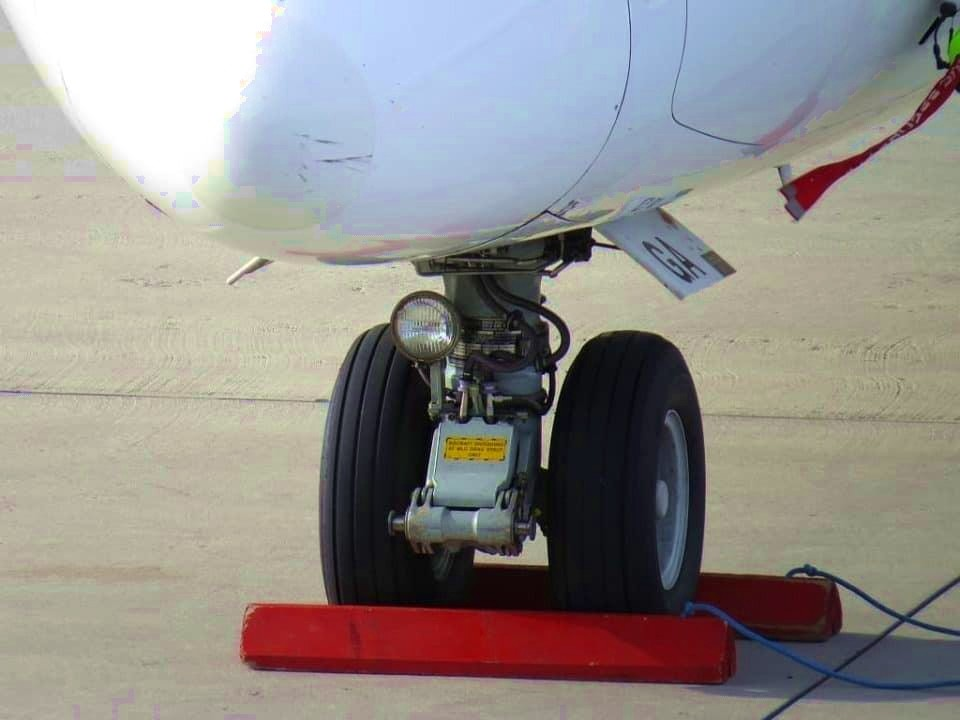chock: (234, 593, 742, 685), (430, 555, 845, 642)
wheel: (545, 328, 706, 618), (318, 318, 466, 608)
